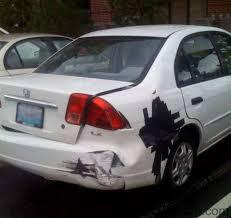quaterpanel-dent: (130, 90, 192, 155)
rear-bumper-dent: (69, 135, 145, 187)
